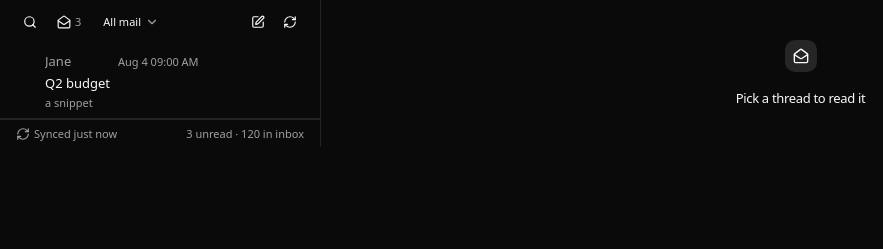
Test case: trashing removes the row and closes the reader
Click the button "Jane Q2 budget a snippet Aug 4 09:00 AM". click: {"x": 78, "y": 83}
box: 22,44 -> 320,118
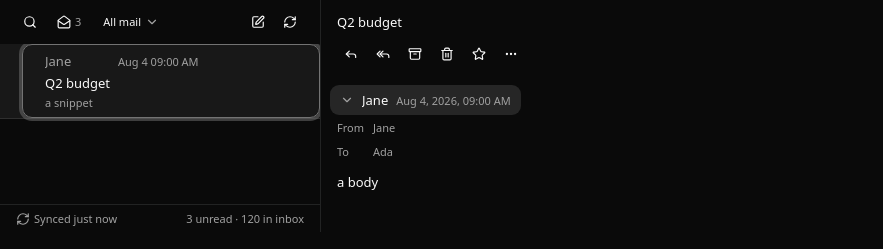
expect the element showing "Jane Aug 4, 2026, 09:00 AM From Jane To Ada a body" is shown: met, box 329,84 -> 522,191
Click the button named "Move this thread to trash". click: {"x": 447, "y": 54}
box: 433,40 -> 461,68
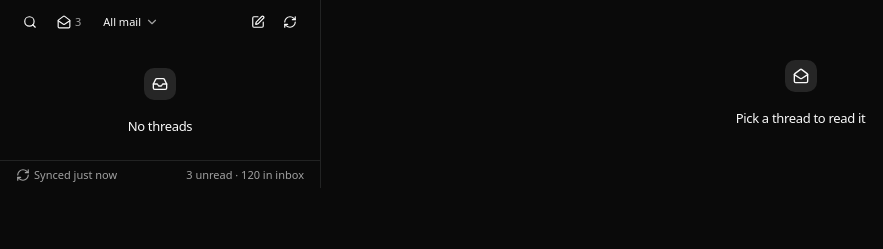
expect the button "Q2 budget" is gone: met
